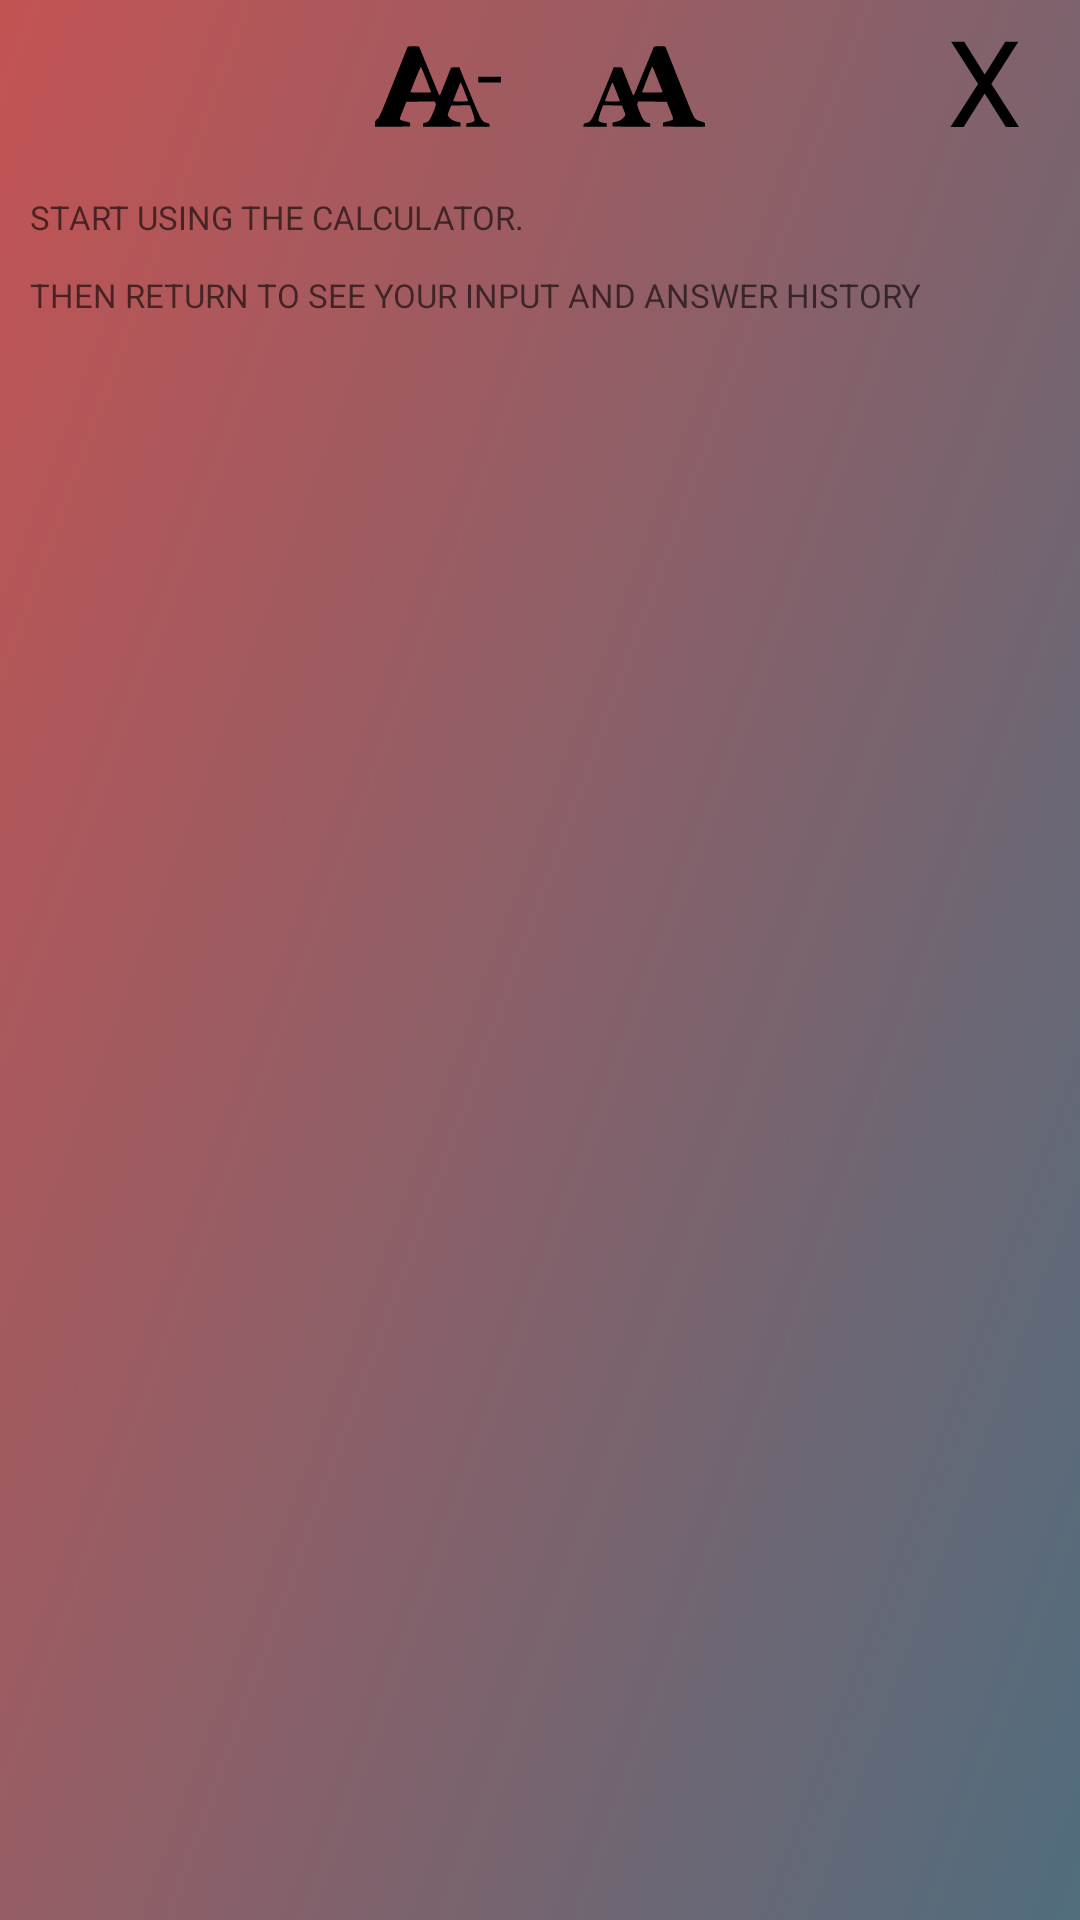

Named icons in this screenshot (1080x1920) and their centers, (x,y):
Increase Font Size: (644,86)
Reduce Font Size: (438,86)
